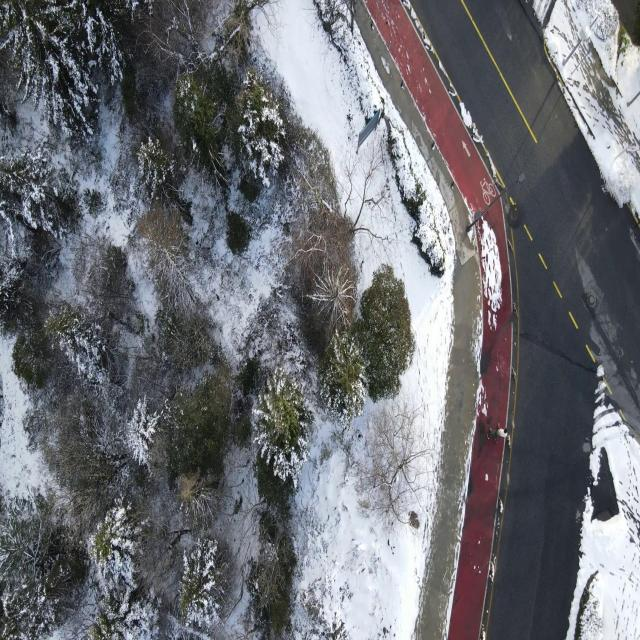p3rson: (495, 422, 508, 444), (486, 427, 499, 440)
